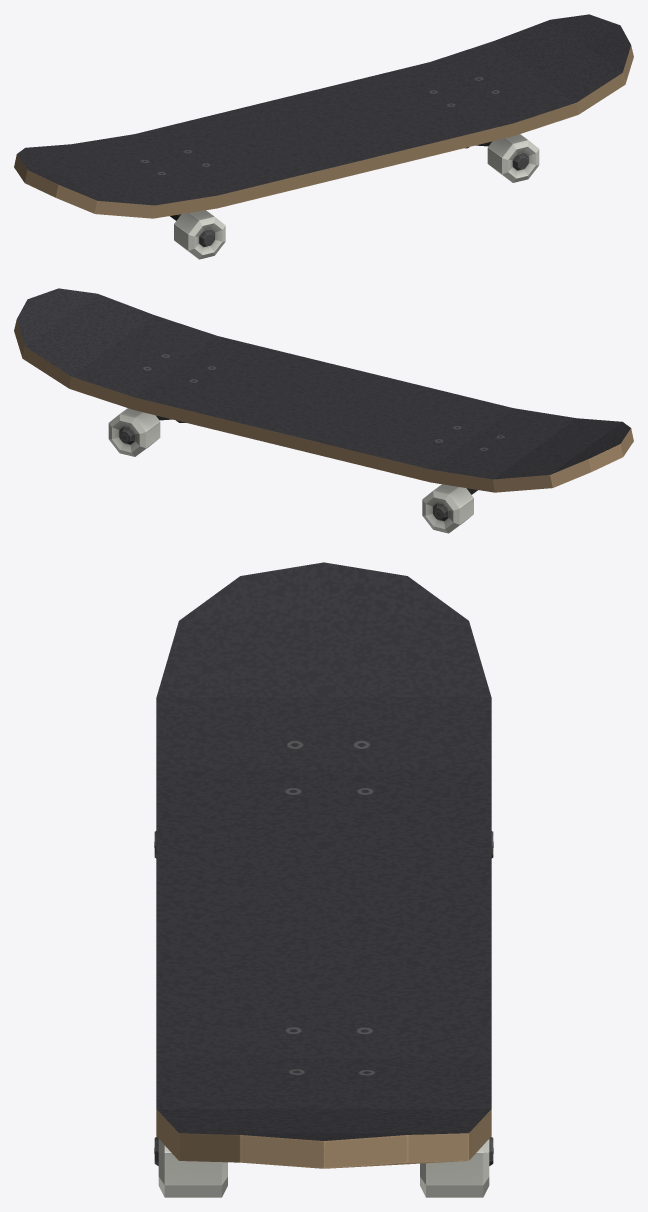
The model's file is Skateboard.obj.
3 views of the same model, one above another, from view 1: azimuth 30°, elevation 25°; view 2: azimuth 150°, elevation 25°; view 3: azimuth 270°, elevation 25° (orthographic). The views are drawn at different scales.
Visible parts, largest first — view 1: Skateboard_Mesh; view 2: Skateboard_Mesh; view 3: Skateboard_Mesh.
Part boxes in pixels (x1,y1,x2,y2): Skateboard_Mesh: (14,14,633,259); Skateboard_Mesh: (14,288,633,533); Skateboard_Mesh: (154,562,493,1197).
Bounding box in the file's own units: 5.97 × 0.8822 × 1.46.
Materials: 1 (1 with a texture image).
